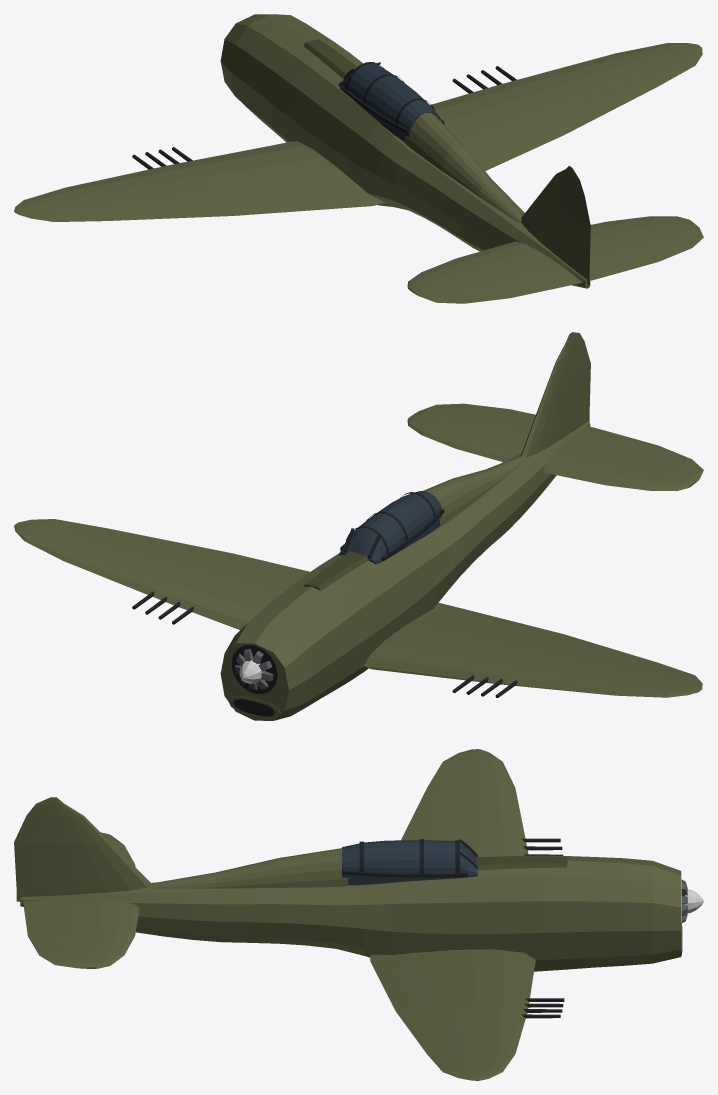
The picture shows the model from 3 angles, top to bottom: view 1: azimuth 30°, elevation 25°; view 2: azimuth 150°, elevation 25°; view 3: azimuth 270°, elevation 25°; orthographic projection.
Visible parts, largest first — view 1: Fuselage, Wing L, Wing R, Stabilizer L, Dorsal Spine, Cockpit Glass, Flap L, Flap R, Elevator L, Stabilizer R, Vertical Fin, Elevator R (+5 smaller); view 2: Fuselage, Wing L, Wing R, Stabilizer L, Stabilizer R, Cockpit Glass, Vertical Fin, Dorsal Spine, Elevator L, Flap L, Rudder, Flap R (+8 smaller); view 3: Fuselage, Wing R, Wing L, Vertical Fin, Dorsal Spine, Cockpit Glass, Stabilizer R, Rudder, Elevator R, Flap R, Canopy Frame, Glare Panel (+2 smaller).
Part boxes in pixels (x1,y1,x2,y2): Fuselage: (220, 14, 590, 288); Wing L: (14, 141, 385, 220); Wing R: (430, 43, 702, 150); Stabilizer L: (407, 241, 559, 293); Dorsal Spine: (404, 113, 522, 223); Cockpit Glass: (338, 63, 441, 141); Flap L: (174, 187, 352, 217); Flap R: (469, 104, 597, 170); Elevator L: (415, 265, 582, 303); Stabilizer R: (590, 216, 695, 257); Vertical Fin: (521, 166, 569, 264); Elevator R: (589, 225, 703, 280); Fuselage: (220, 421, 590, 720); Wing L: (364, 602, 702, 697); Wing R: (14, 519, 296, 629); Stabilizer L: (543, 438, 695, 490); Stabilizer R: (407, 410, 530, 461); Cockpit Glass: (338, 491, 442, 564); Vertical Fin: (521, 334, 572, 456); Dorsal Spine: (423, 455, 527, 526); Elevator L: (573, 426, 703, 482); Flap L: (447, 609, 597, 651); Rudder: (570, 332, 590, 431); Flap R: (174, 544, 309, 581); Fuselage: (20, 855, 681, 971); Wing R: (370, 949, 564, 1080); Wing L: (407, 749, 563, 857); Vertical Fin: (55, 797, 151, 895); Dorsal Spine: (146, 848, 348, 888); Cockpit Glass: (342, 840, 477, 885); Stabilizer R: (63, 899, 139, 968); Rudder: (14, 797, 54, 901); Elevator R: (23, 899, 84, 968); Flap R: (374, 963, 434, 1026); Canopy Frame: (342, 839, 477, 877); Glare Panel: (476, 856, 567, 870).
Bounding box in the file's own units: 12.42 × 2.99 × 10.94.
